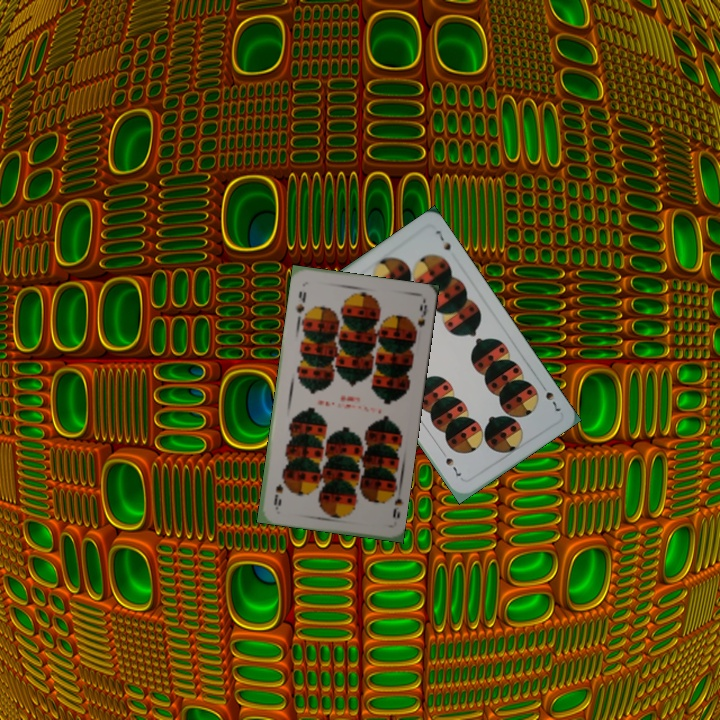S7: (541, 387, 563, 414)
S9: (384, 485, 405, 521), (292, 287, 309, 316)
